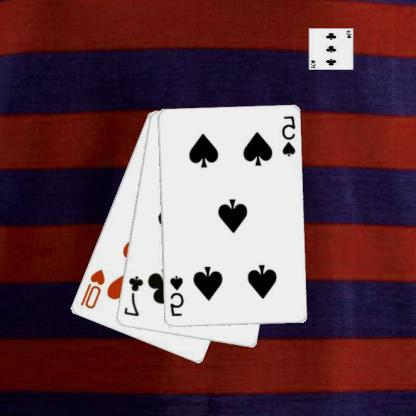10H: (79, 266, 108, 310)
5S: (168, 273, 186, 318), (280, 114, 298, 158)
7C: (122, 273, 146, 318)
